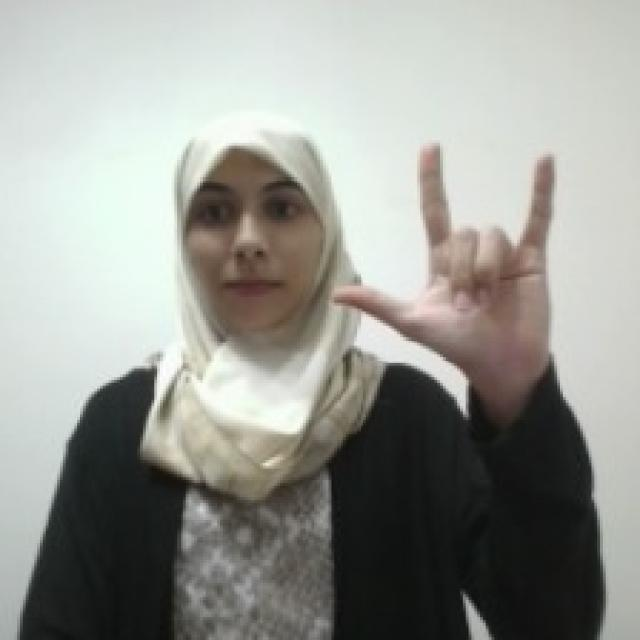love: (328, 134, 561, 368)
